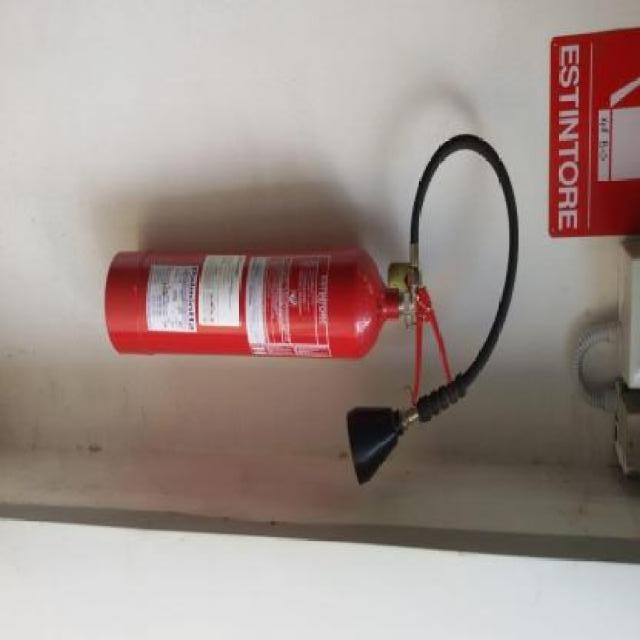fire extinguisher: (105, 133, 519, 490)
